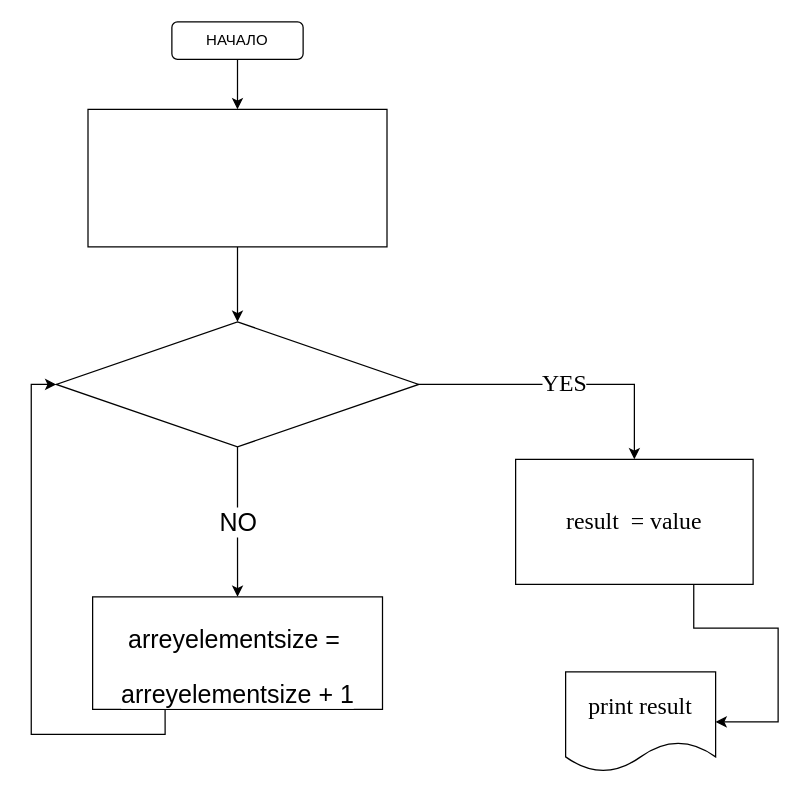
This 810x794 diagram has some shape labels left out. Each missing label, with the centre of its shape:
array [] value arreyelementsize result: point (237, 177)
value . Length <= 3: point (237, 384)
